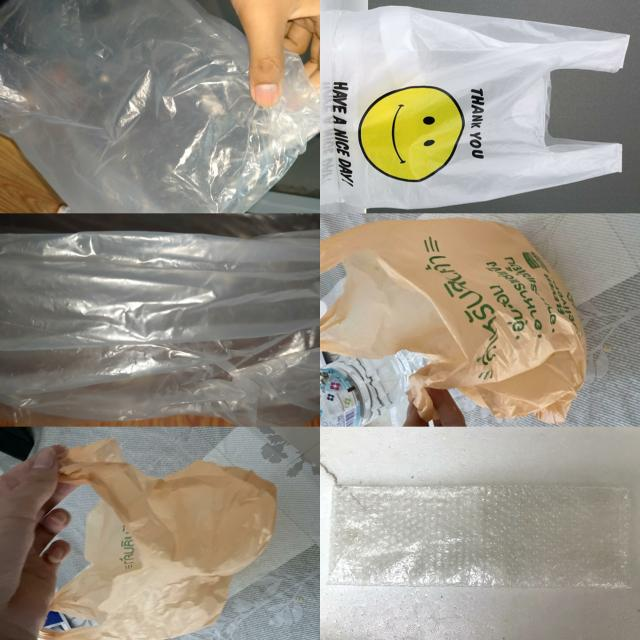Single-layer Plastic: (0, 0, 319, 212), (0, 230, 319, 425), (322, 6, 628, 208), (320, 218, 587, 423), (40, 439, 276, 640), (330, 485, 630, 587)
